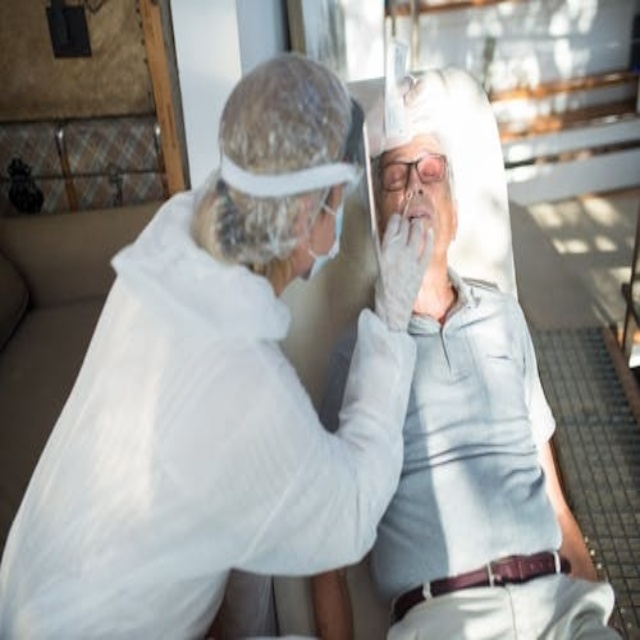Gafas: (375, 140, 452, 197)
Guantes: (373, 207, 434, 336)
Mascara: (306, 187, 345, 280)
Sin_mascara: (404, 207, 430, 225)
